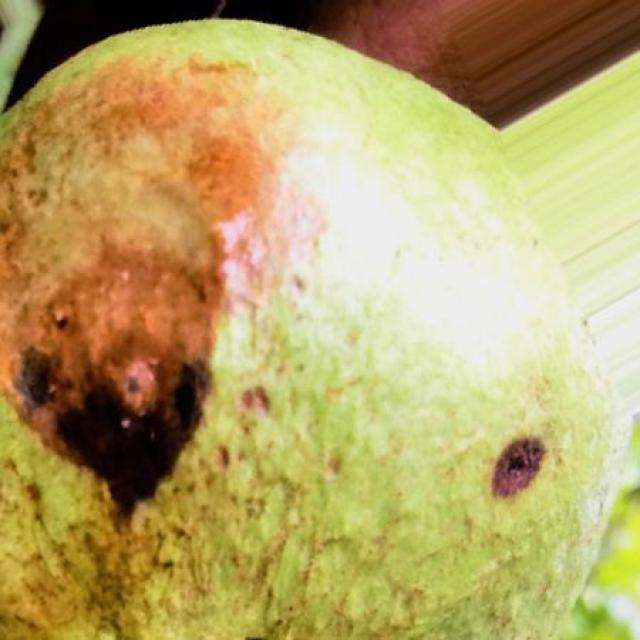Styler and Root: (0, 20, 622, 640)
